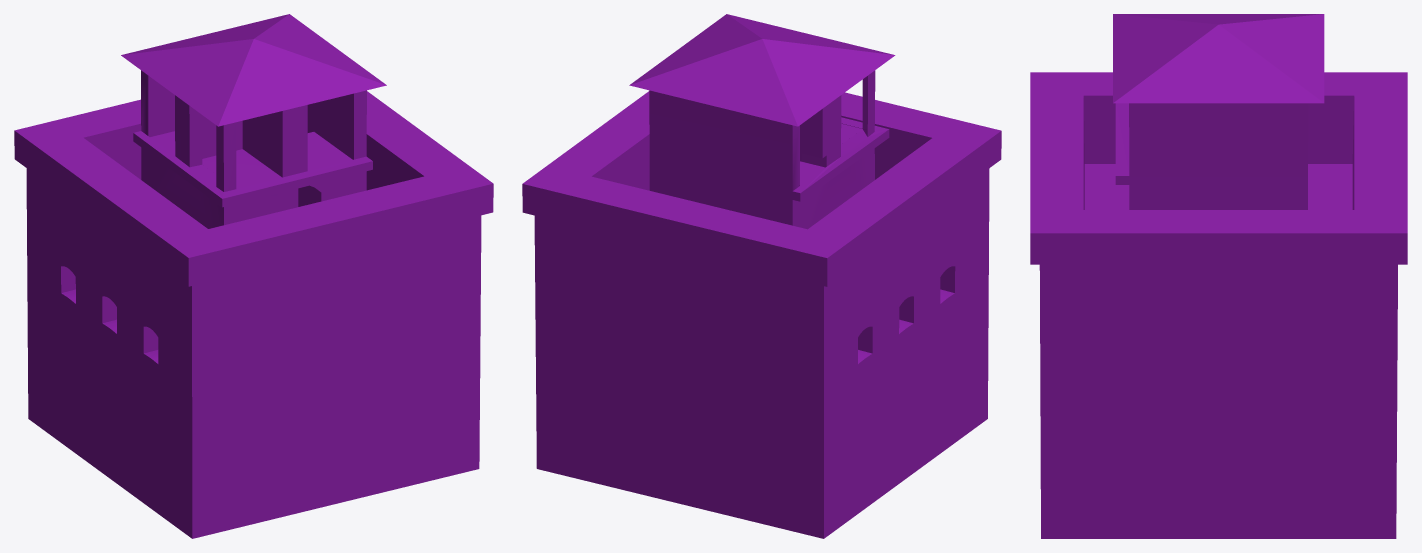
Rendered from cityman.obj.
3 renders of one model, left to right at view 1: azimuth 30°, elevation 25°; view 2: azimuth 150°, elevation 25°; view 3: azimuth 270°, elevation 25°, orthographic. The views are drawn at different scales.
Parts seen in each view (by area): view 1: Object001; view 2: Object001; view 3: Object001.
Part boxes in pixels (box(x1,y1,x2,y2)): Object001: box(14, 14, 493, 538); Object001: box(522, 14, 1001, 538); Object001: box(1030, 14, 1407, 538).
Bounding box in the file's own units: 42.71 × 54.21 × 42.28.
